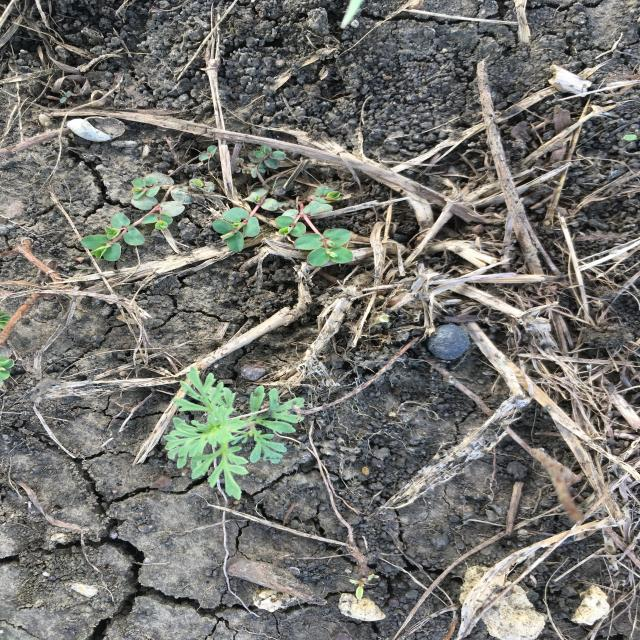Ragweed: (162, 363, 312, 502)
SpottedSpurge: (76, 143, 360, 269)
